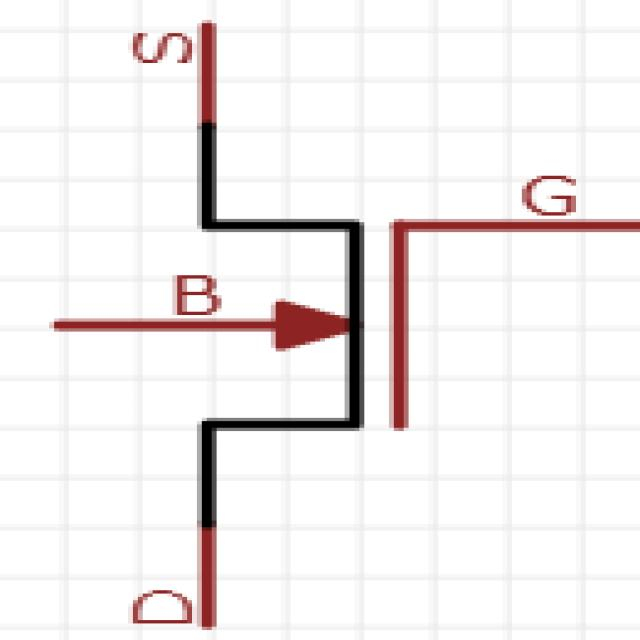nmos: (70, 14, 621, 633)
